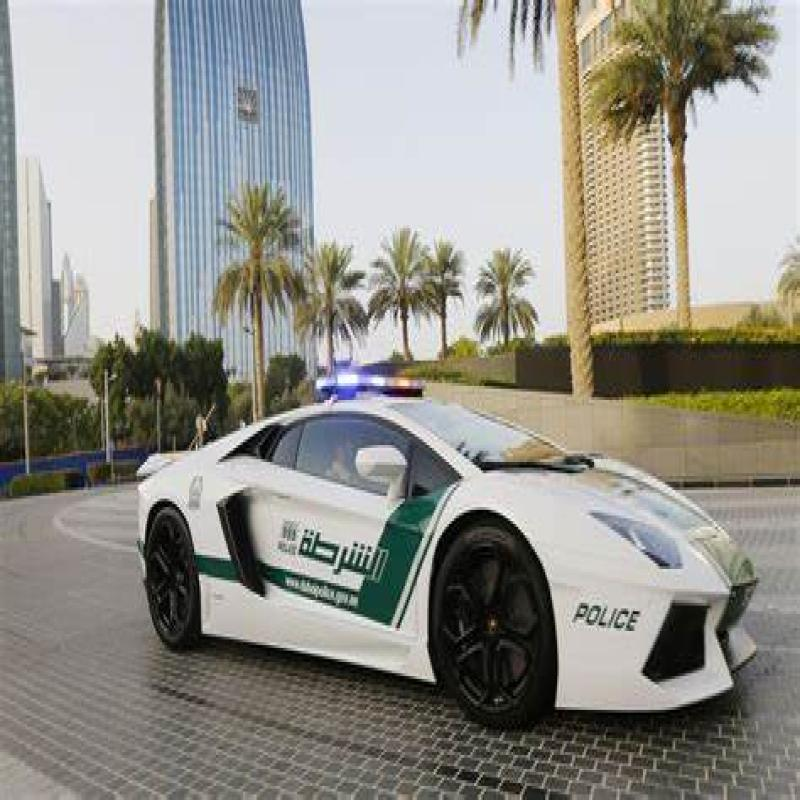AmbulanceSiren: (307, 367, 435, 418)
car: (155, 383, 751, 717)
